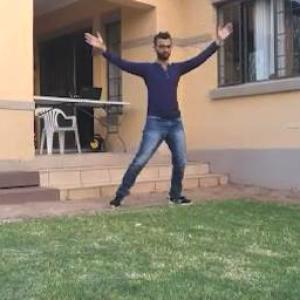takeoff: (83, 22, 233, 214)
